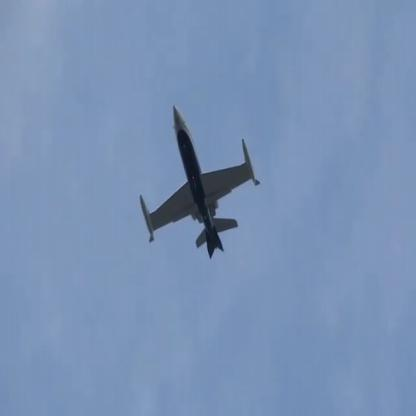aircraft: (137, 105, 260, 259)
